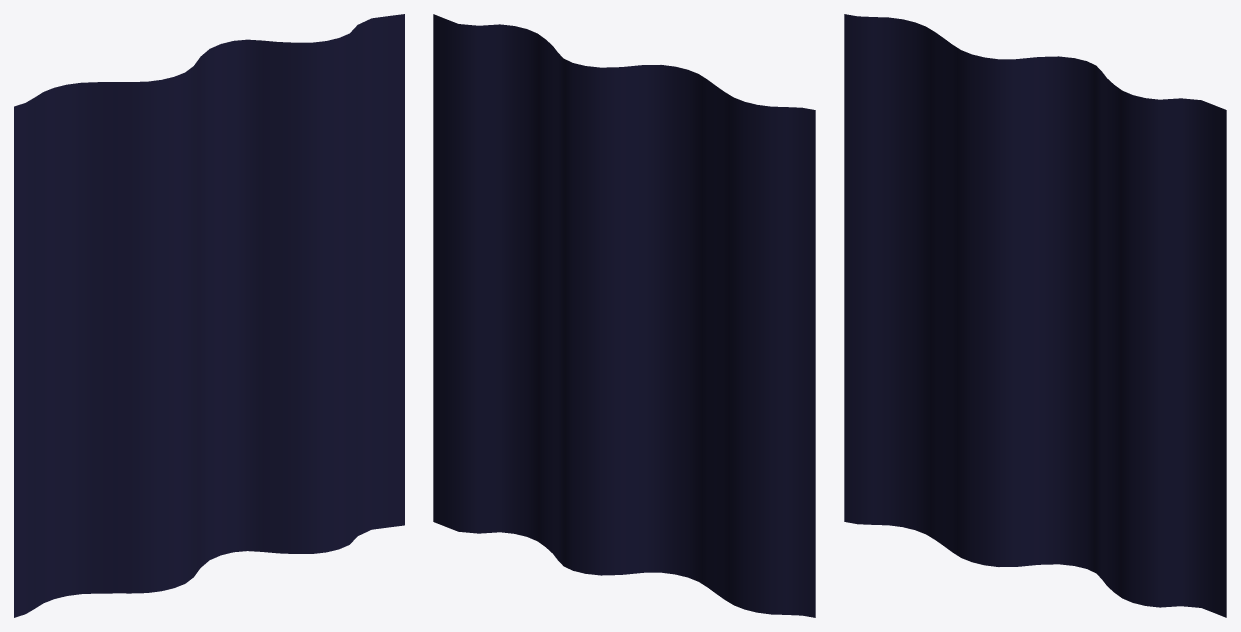
File: Telon.fbx
3 renders of one model, left to right at view 1: azimuth 30°, elevation 25°; view 2: azimuth 150°, elevation 25°; view 3: azimuth 330°, elevation 25°, orthographic.
Visible parts, largest first — view 1: Plane.001; view 2: Plane.001; view 3: Plane.001.
Part boxes in pixels (box(x1,y1,x2,y2)): Plane.001: box(14, 14, 404, 617); Plane.001: box(433, 14, 815, 617); Plane.001: box(844, 14, 1226, 617).
Size of the model in its own units: 2363 by 2977 by 247.
